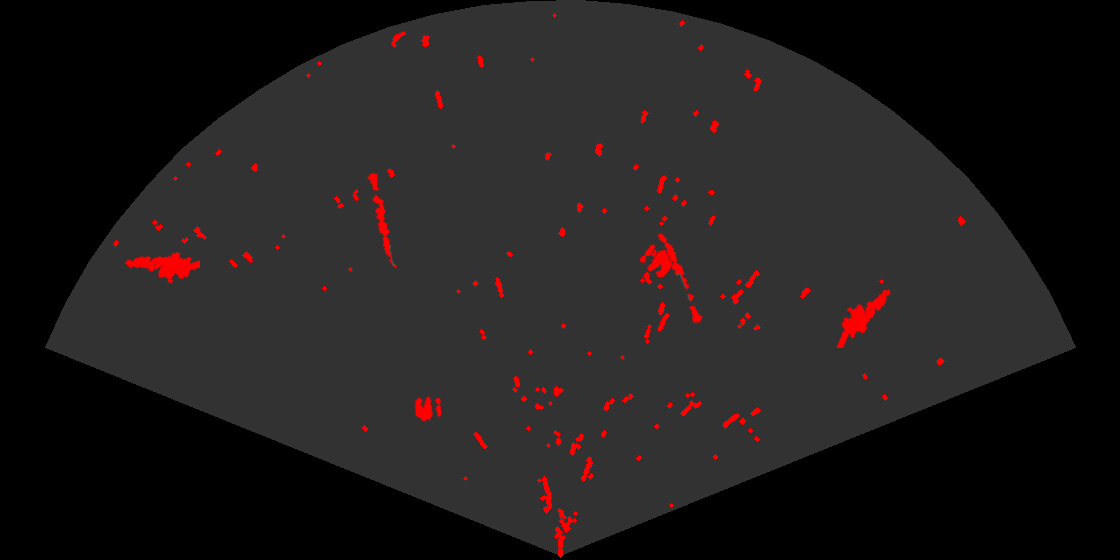ball: (638, 243, 675, 279), (413, 394, 443, 423)
chain: (656, 232, 704, 325), (366, 171, 398, 270)
frogman: (835, 287, 893, 348), (123, 251, 200, 285)
